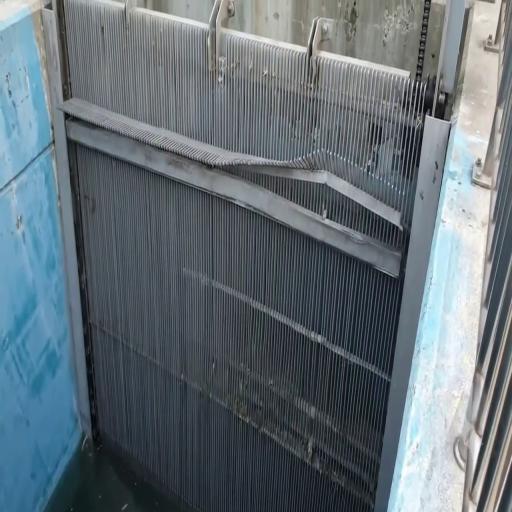rake: (54, 0, 437, 511)
rake_broken: (360, 182, 411, 238), (355, 162, 405, 216), (256, 172, 347, 201), (260, 146, 328, 182), (316, 146, 367, 191), (208, 148, 269, 182), (333, 171, 373, 211)
